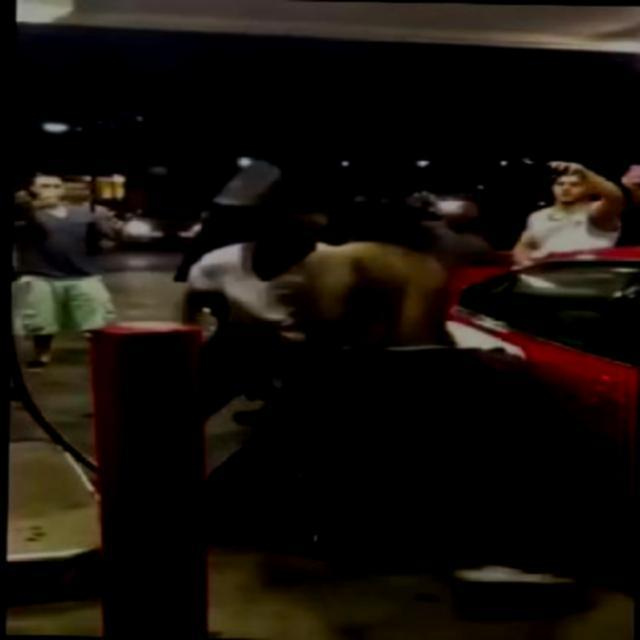fight: (180, 200, 531, 526)
non-fight: (13, 170, 126, 366), (520, 152, 626, 245)
